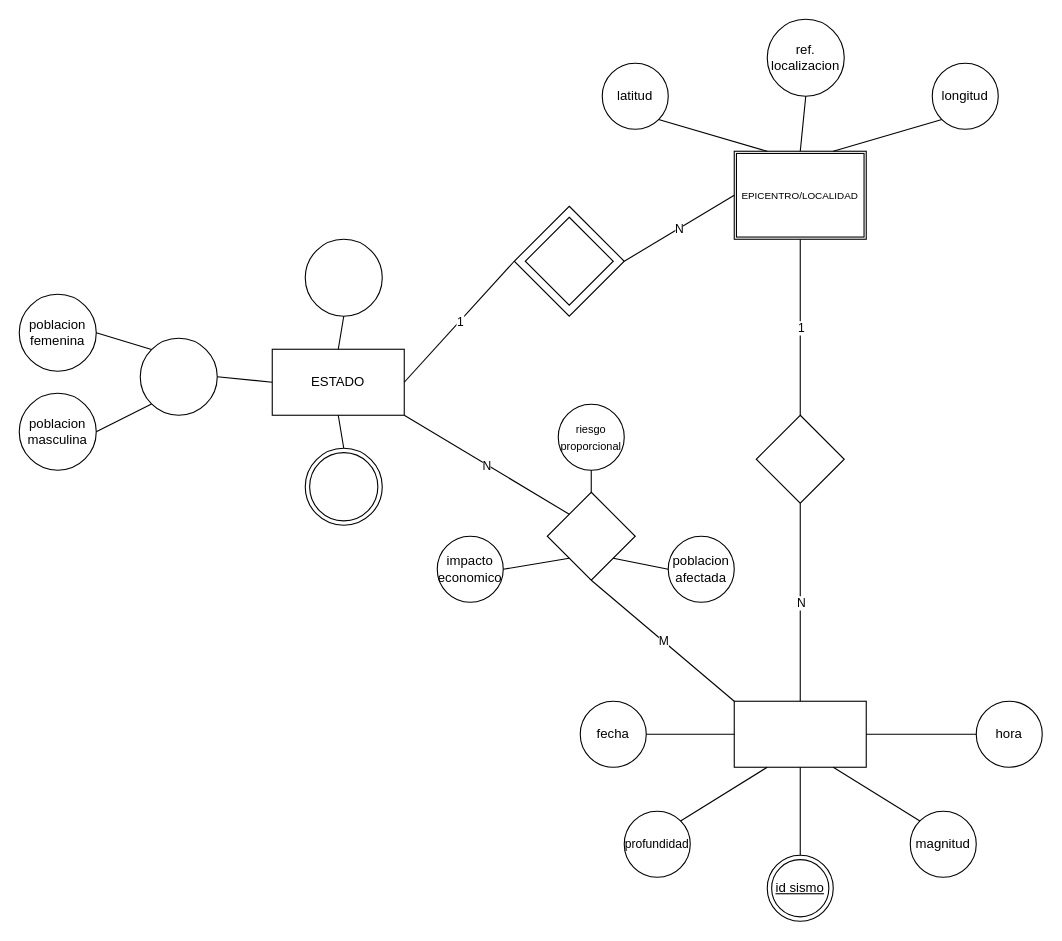
Some shapes in this 1062 by 941 pixel diagram are drawn without their labels. The shapes that lost their labels are listed below. From the top down, each one's box as (x1, y1, x2, y2) in pixels, then its label:
(304, 238, 382, 316): produccion bruta
(524, 216, 613, 305): pertenece
(139, 337, 217, 415): poblacion total
(755, 414, 844, 503): ocurre en
(304, 447, 382, 525): nombre estado
(546, 491, 635, 580): impacta
(733, 700, 866, 767): SISMO
